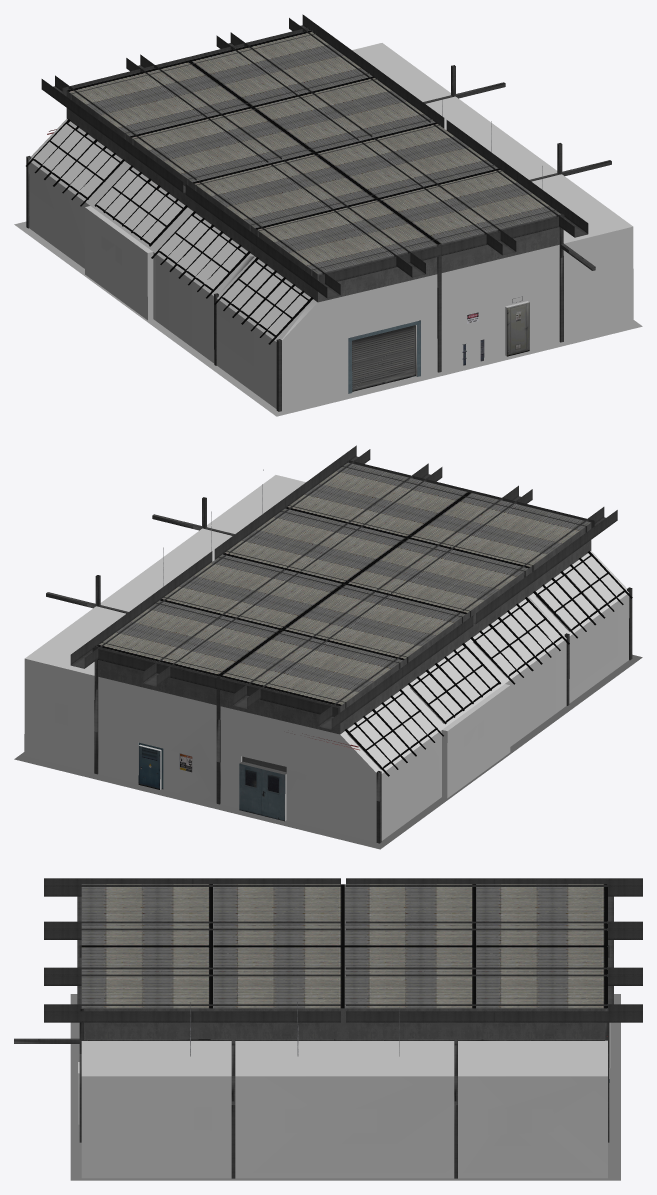
Rendered from garage.fbx.
The picture shows the model from 3 angles, top to bottom: view 1: azimuth 30°, elevation 25°; view 2: azimuth 150°, elevation 25°; view 3: azimuth 270°, elevation 25°; orthographic projection. The views are drawn at different scales.
Visible parts, largest first — view 1: garage, windo, floor; view 2: garage, windo, floor; view 3: garage, floor.
Boxes of the visible parts, bbox=[...] form: garage: bbox=[26, 14, 633, 411]; windo: bbox=[33, 124, 307, 334]; floor: bbox=[14, 194, 642, 416]; garage: bbox=[24, 445, 632, 843]; windo: bbox=[350, 556, 623, 767]; floor: bbox=[14, 629, 642, 849]; garage: bbox=[14, 878, 642, 1178]; floor: bbox=[70, 994, 620, 1180].
Bounding box in the file's own units: 28776 × 10204 × 36302.
